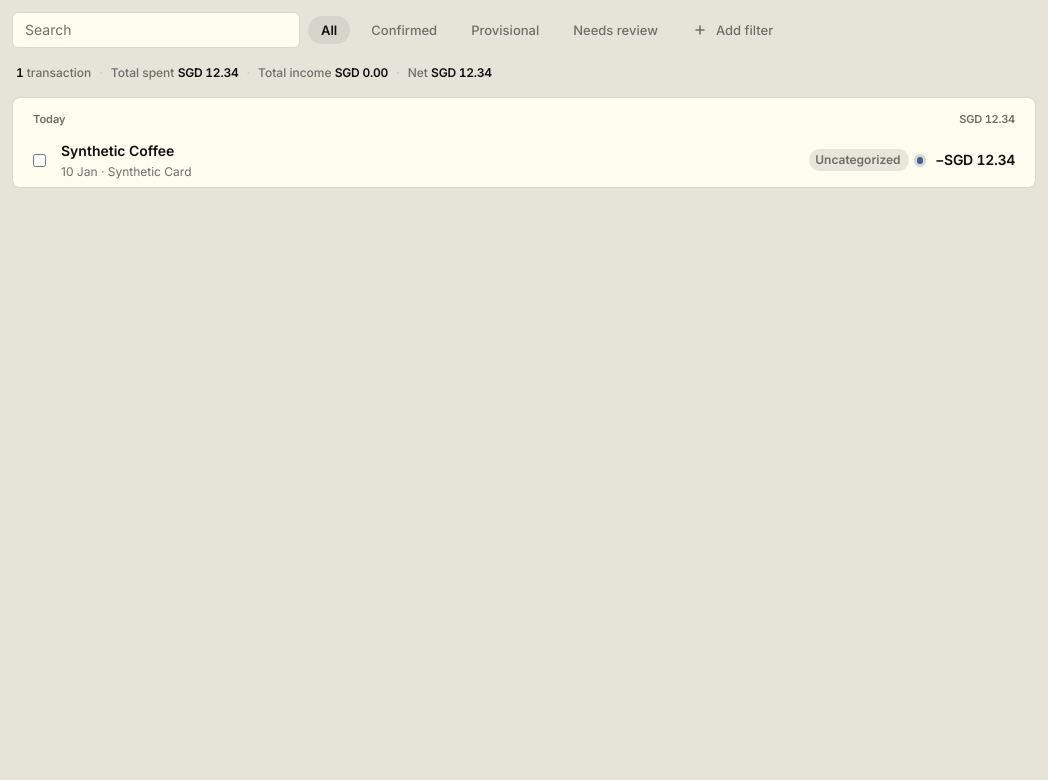
TransactionsPage › renders Copilot-like list chrome for the current filter
Expected: the heading "Today" is shown, x1=33 y1=112 x2=66 y2=128
Expected: the element named "Filtered totals" shows "1 transaction", x1=16 y1=65 x2=492 y2=80
Click the checkbox named "Select Synthetic Coffee". click: click(40, 160)
box: x1=33 y1=154 x2=46 y2=167
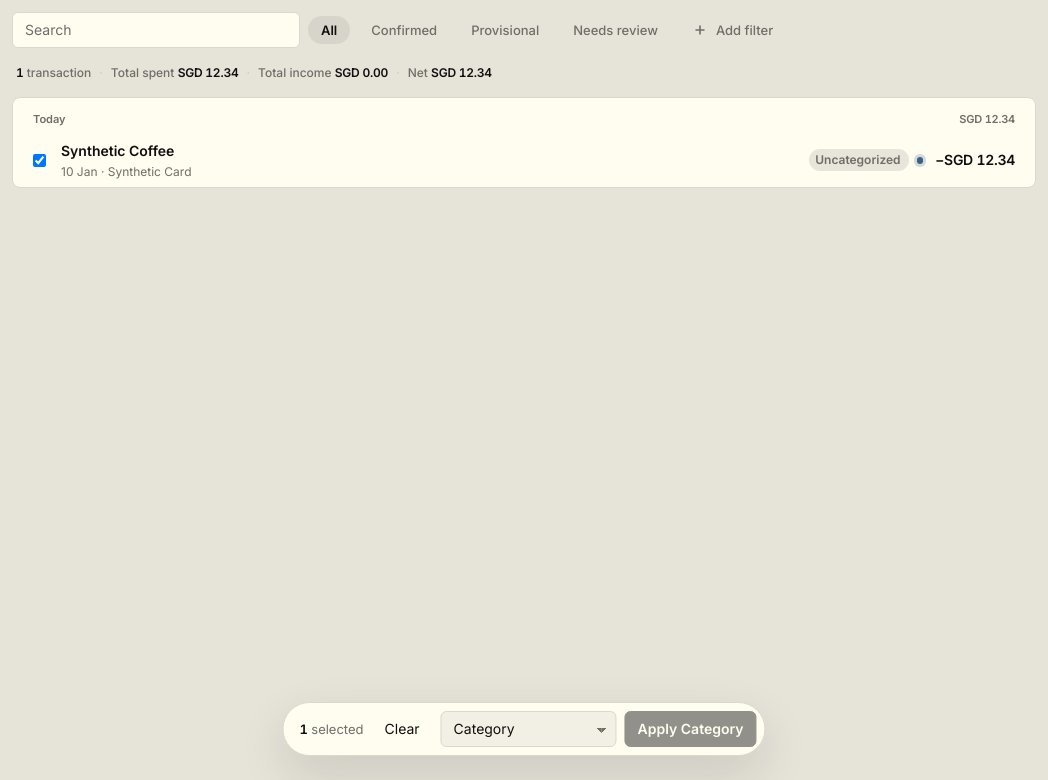
Expected: the element named "Bulk actions" is shown, x1=282 y1=702 x2=766 y2=756
Expected: the button with aria-label "Clear selection" is shown, x1=372 y1=711 x2=433 y2=747
Expected: the button "Apply Category" is shown, x1=625 y1=711 x2=757 y2=747
Click the button "Add filter". click: click(733, 30)
box: x1=679 y1=16 x2=786 y2=44
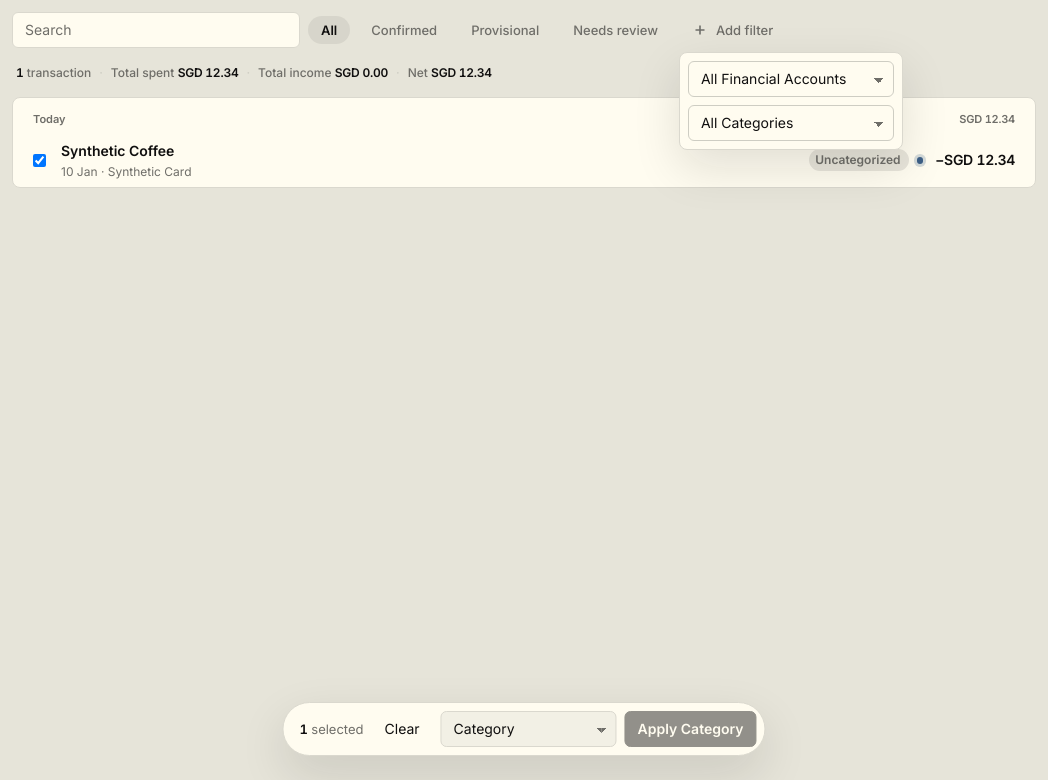
Expected: the dropdown named "Financial Account" is shown, x1=688 y1=61 x2=894 y2=97
Expected: the dropdown named "Category" is shown, x1=688 y1=105 x2=894 y2=141
